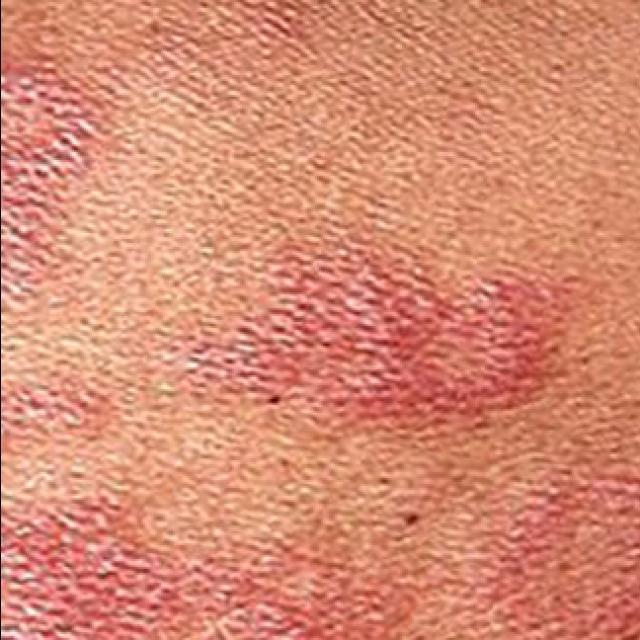Leprosy: (168, 232, 583, 452), (0, 484, 417, 640), (0, 66, 100, 326), (0, 362, 127, 473)
